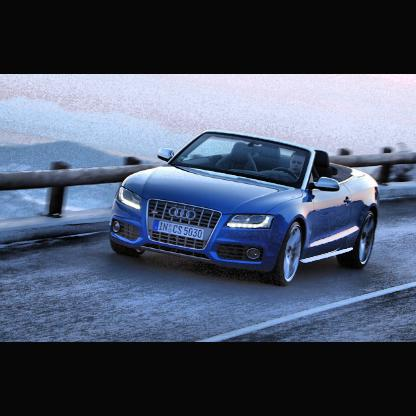Audi S5 Convertible 2012: (110, 132, 381, 286)
